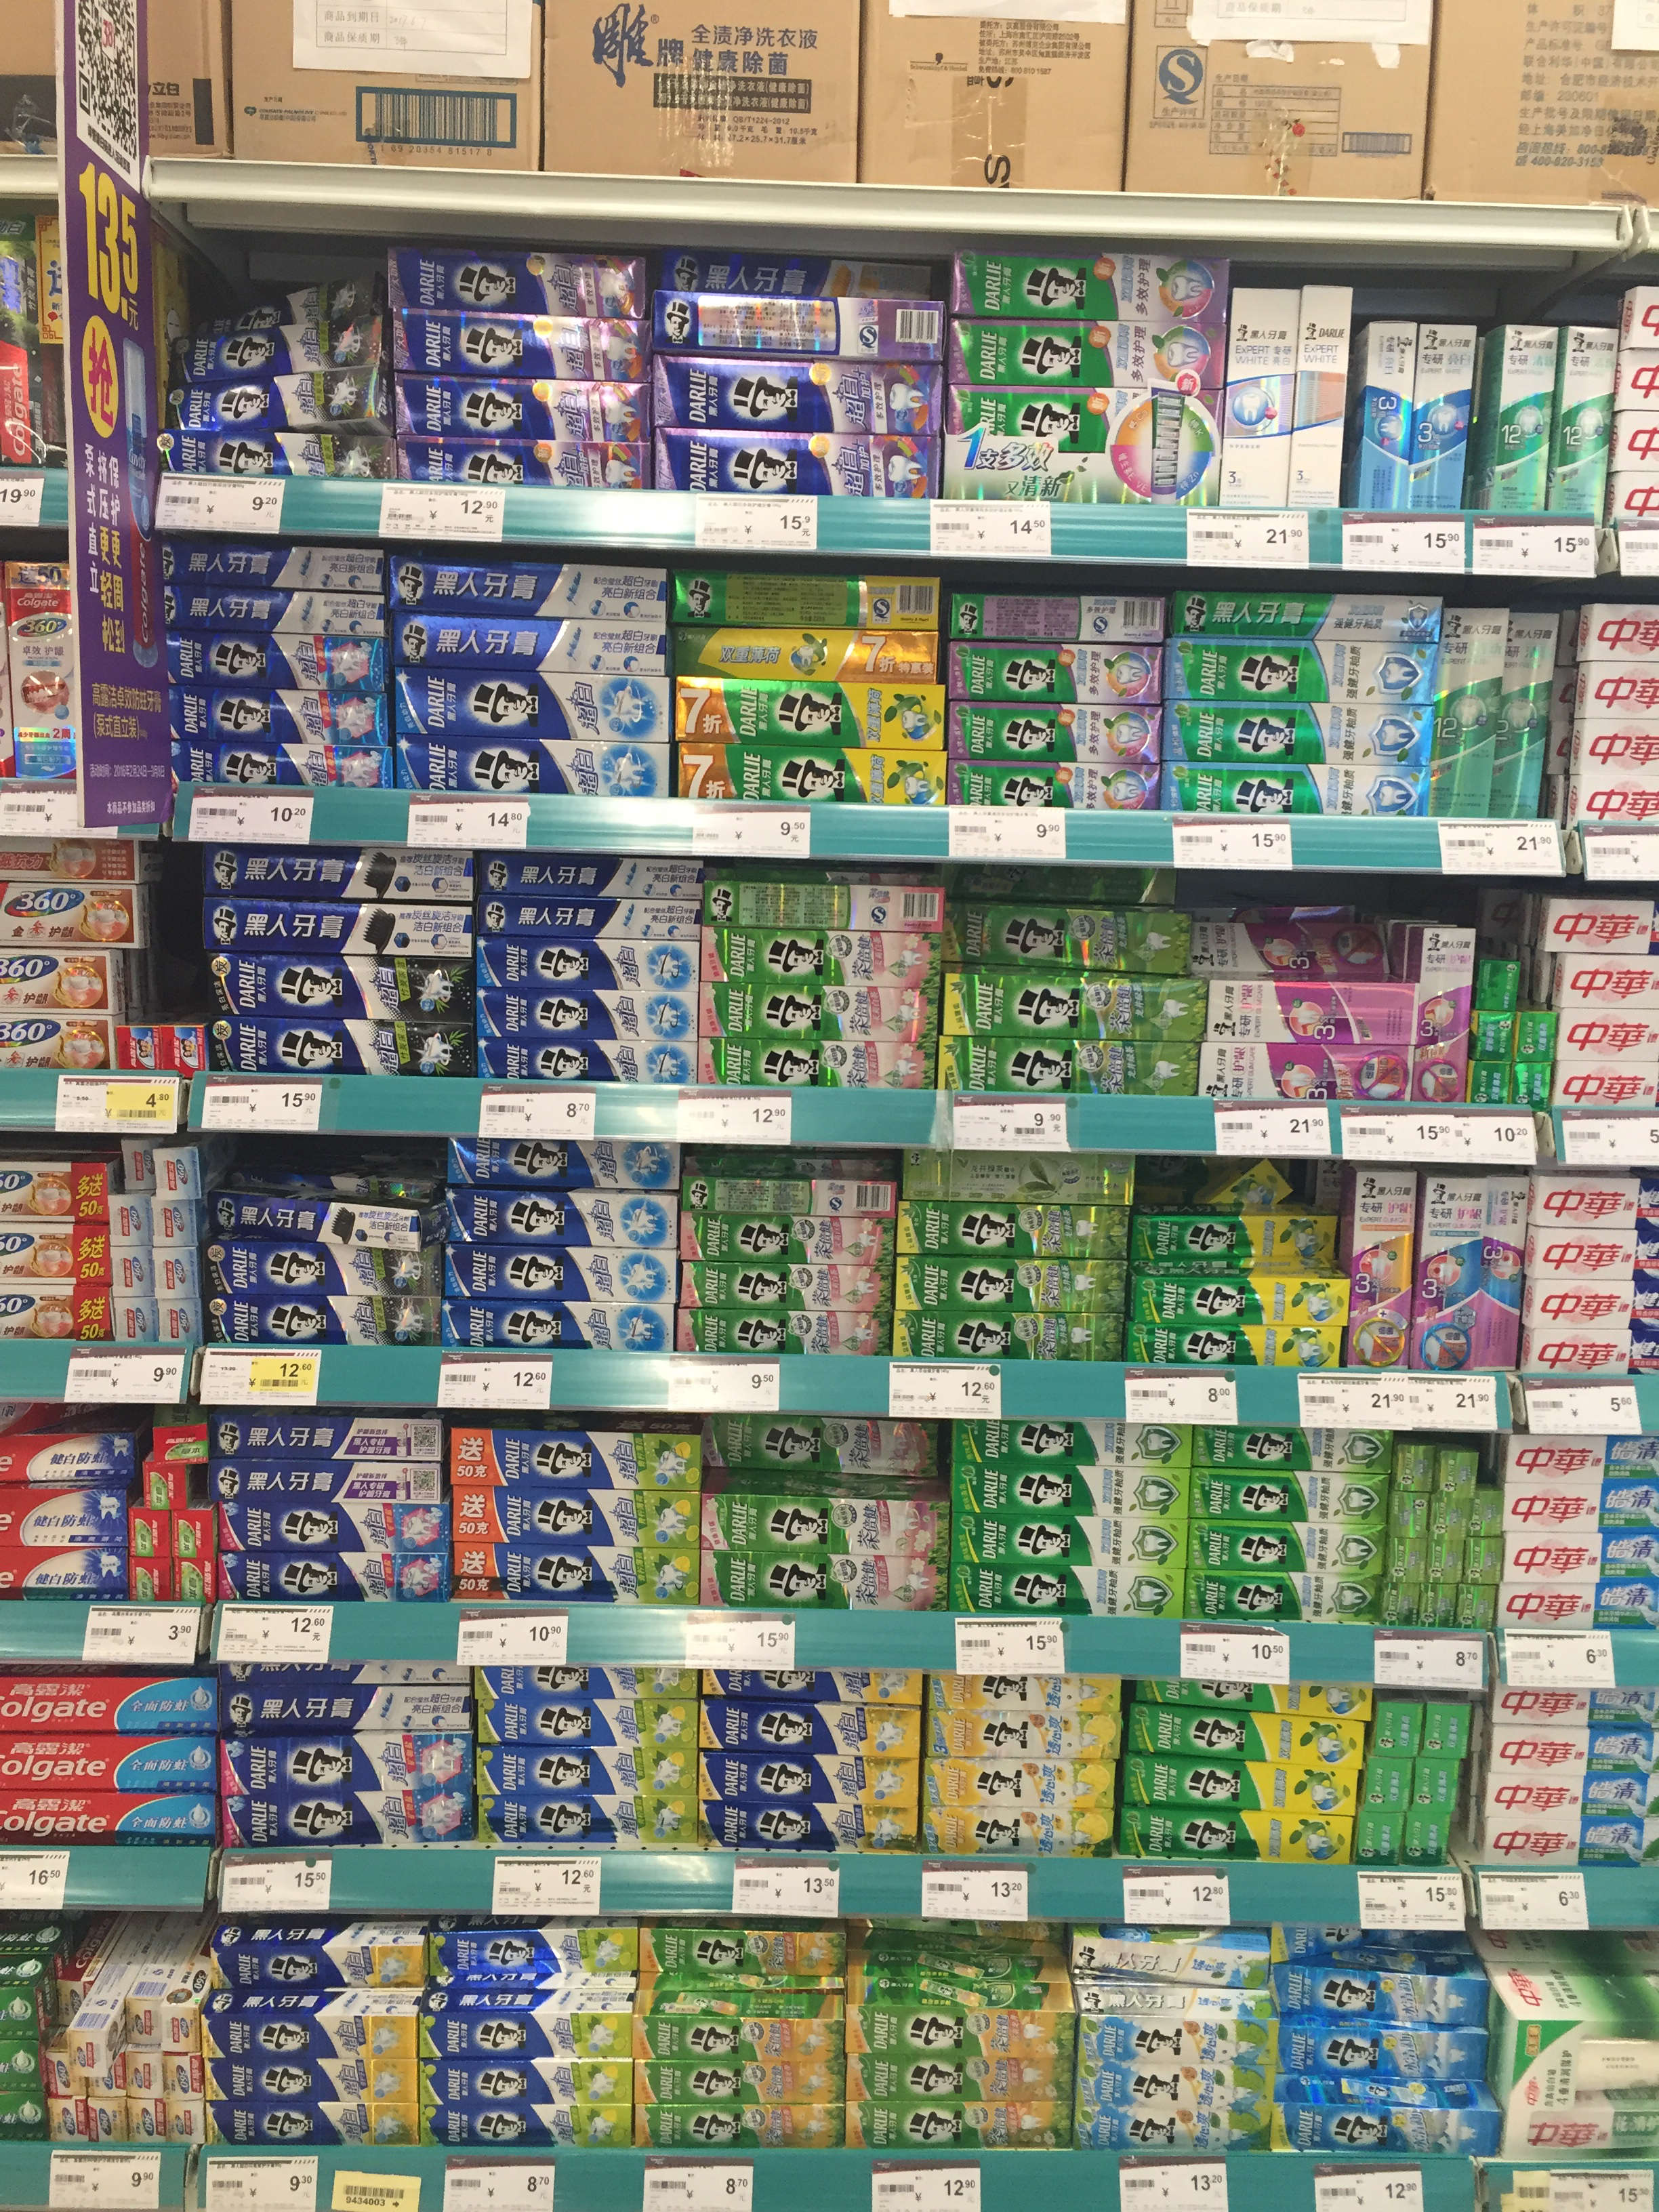Misplacement: (709, 1416, 945, 1493)
